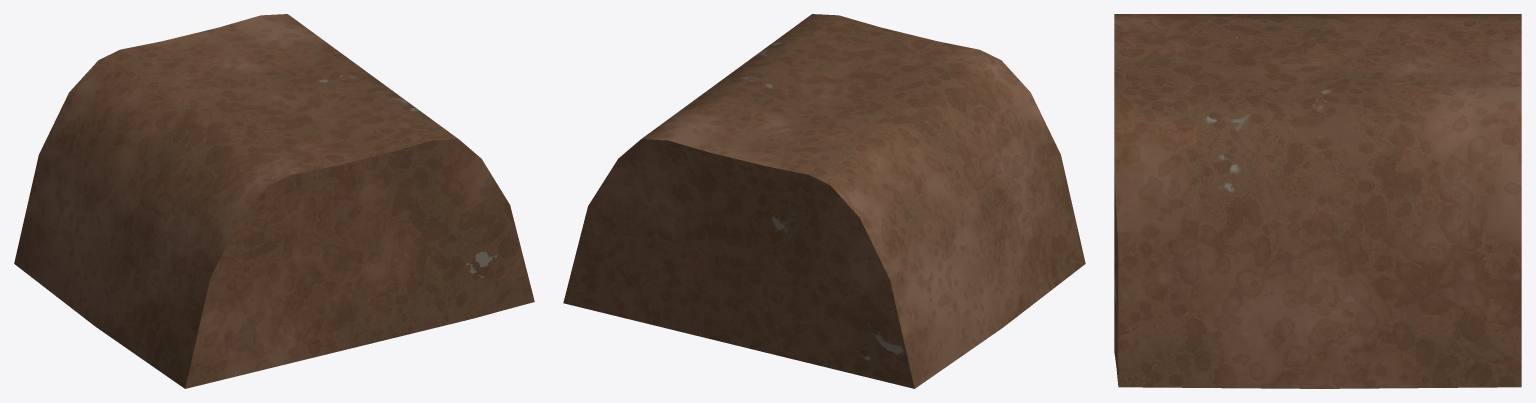
File: rail_track_600mm_ground.obj
The picture shows the model from 3 angles, left to right: view 1: azimuth 30°, elevation 25°; view 2: azimuth 150°, elevation 25°; view 3: azimuth 270°, elevation 25°; orthographic projection. The views are drawn at different scales.
Parts seen in each view (by area): view 1: RailBed; view 2: RailBed; view 3: RailBed.
Boxes of the visible parts, x1,y1,x2,y2 form: RailBed: (14, 14, 534, 388); RailBed: (563, 14, 1085, 388); RailBed: (1114, 14, 1521, 388).
Bounding box in the file's own units: 3.51 × 1.76 × 2.9.
Materials: 1 (1 with a texture image).
